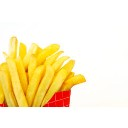frenchfries: (1, 35, 91, 96)
